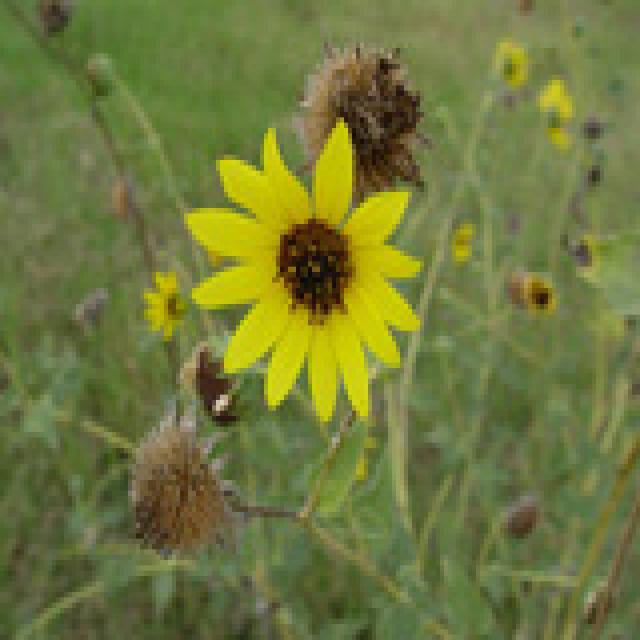sunflower: (180, 107, 430, 448), (142, 270, 184, 366), (534, 75, 578, 165), (484, 37, 526, 104)
